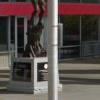Statue: (22, 4, 48, 70)
